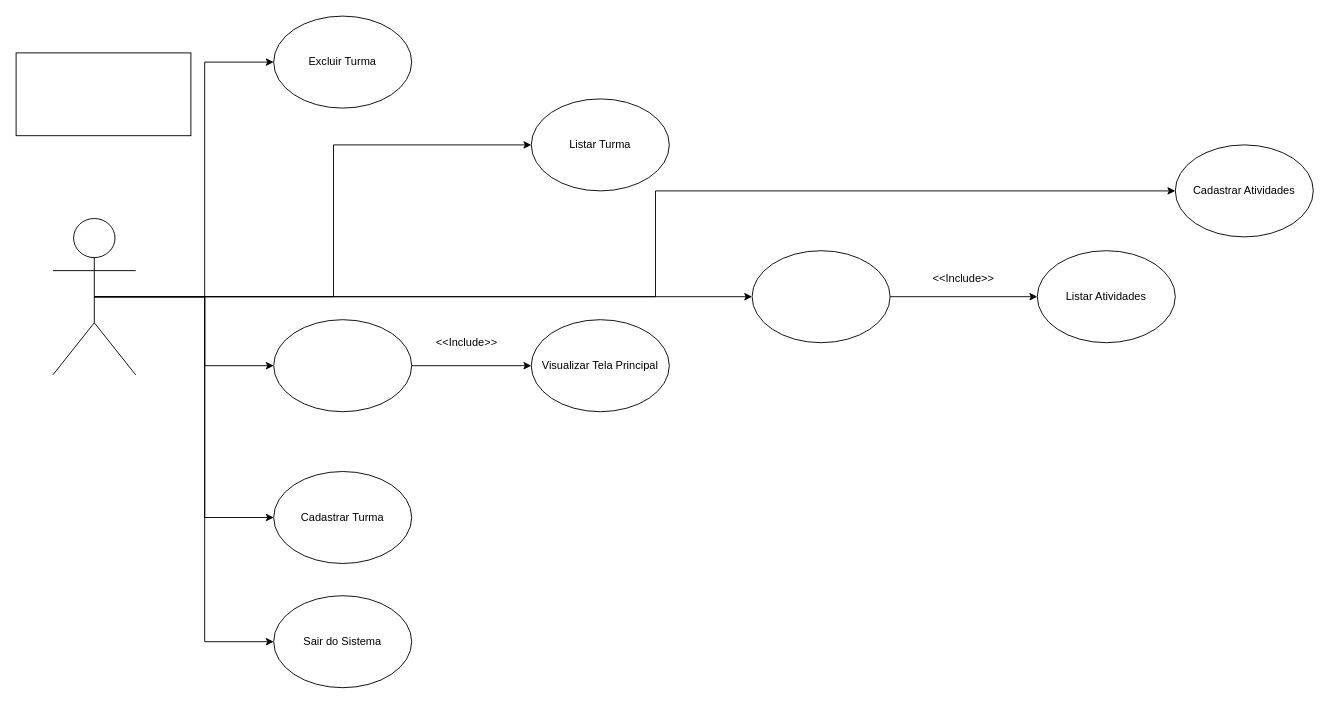
The diagram is 1329 pixels wide and 704 high, and some of its shapes have lost their labels. Each missing label, with the box of its shape:
Autenticar no Sistema: (273, 319, 412, 412)
Professor: (52, 218, 136, 375)
Sistema de Acompanhamento Escolar: (15, 52, 191, 136)
Visualizar Turma: (751, 250, 890, 343)
